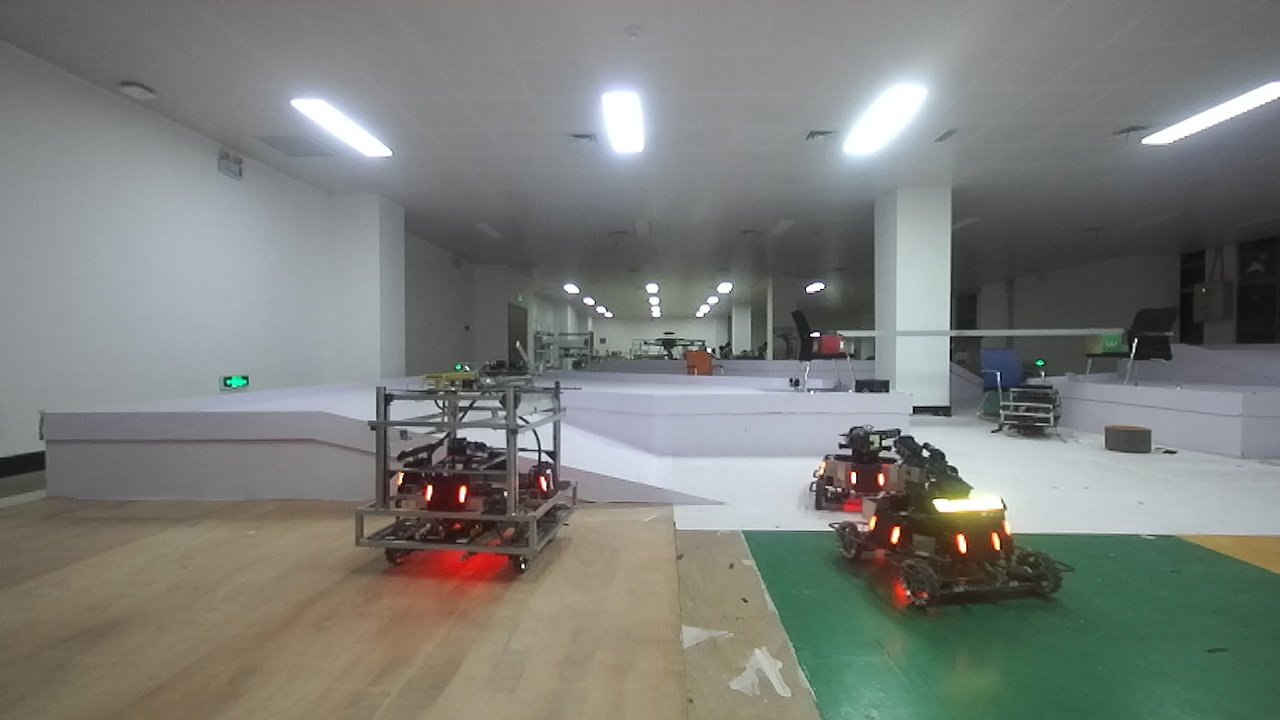car: (352, 368, 571, 581), (835, 486, 1077, 617), (808, 416, 906, 523)
